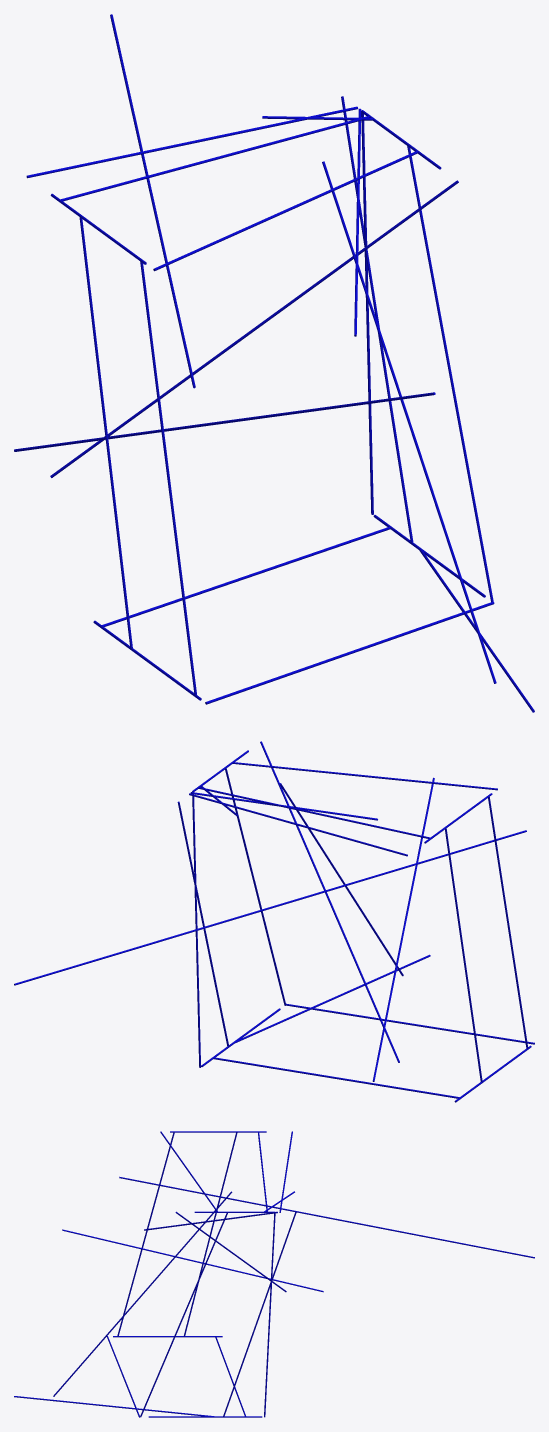
Rendered from corrected_3d_strokes.glb.
3 renders of one model, top to bottom at view 1: azimuth 30°, elevation 25°; view 2: azimuth 150°, elevation 25°; view 3: azimuth 270°, elevation 25°, orthographic. The views are drawn at different scales.
Parts seen in each view (by area): view 1: world; view 2: world; view 3: world.
Part boxes in pixels (x1=…): world: x1=14, y1=14, x2=534, y2=712; world: x1=14, y1=741, x2=534, y2=1102; world: x1=14, y1=1131, x2=534, y2=1417.
Size of the model in its own units: 5.22 by 6.19 by 14.19.
